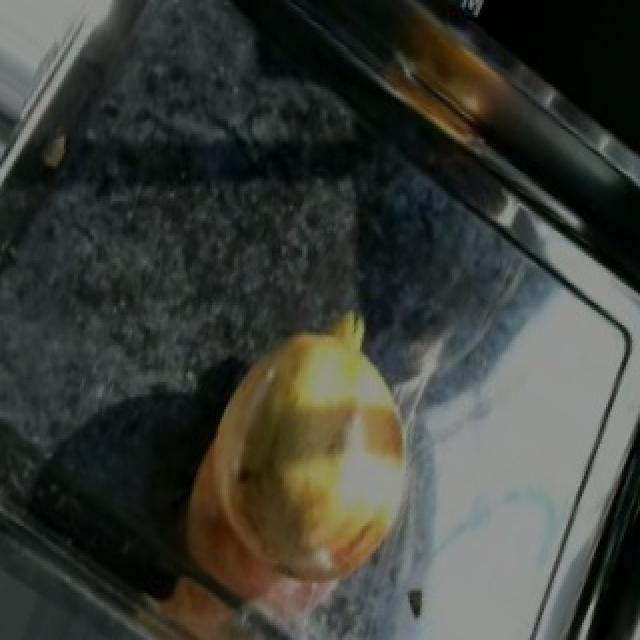fruit: (178, 288, 440, 566)
